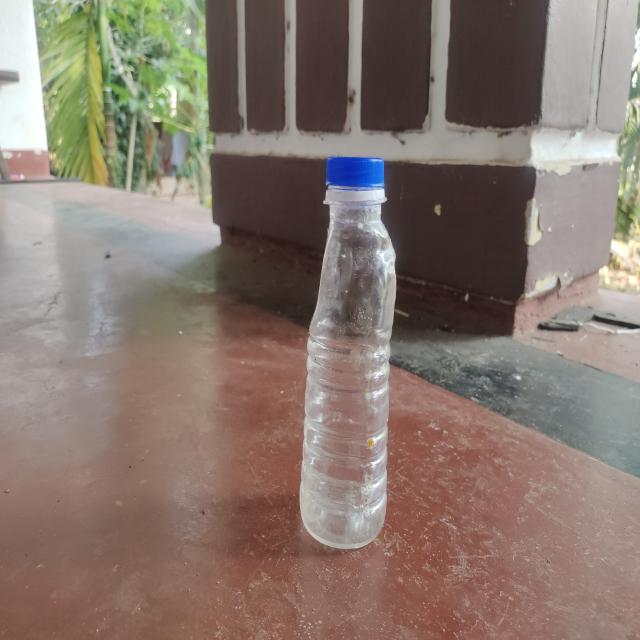plastic: (298, 149, 396, 550)
